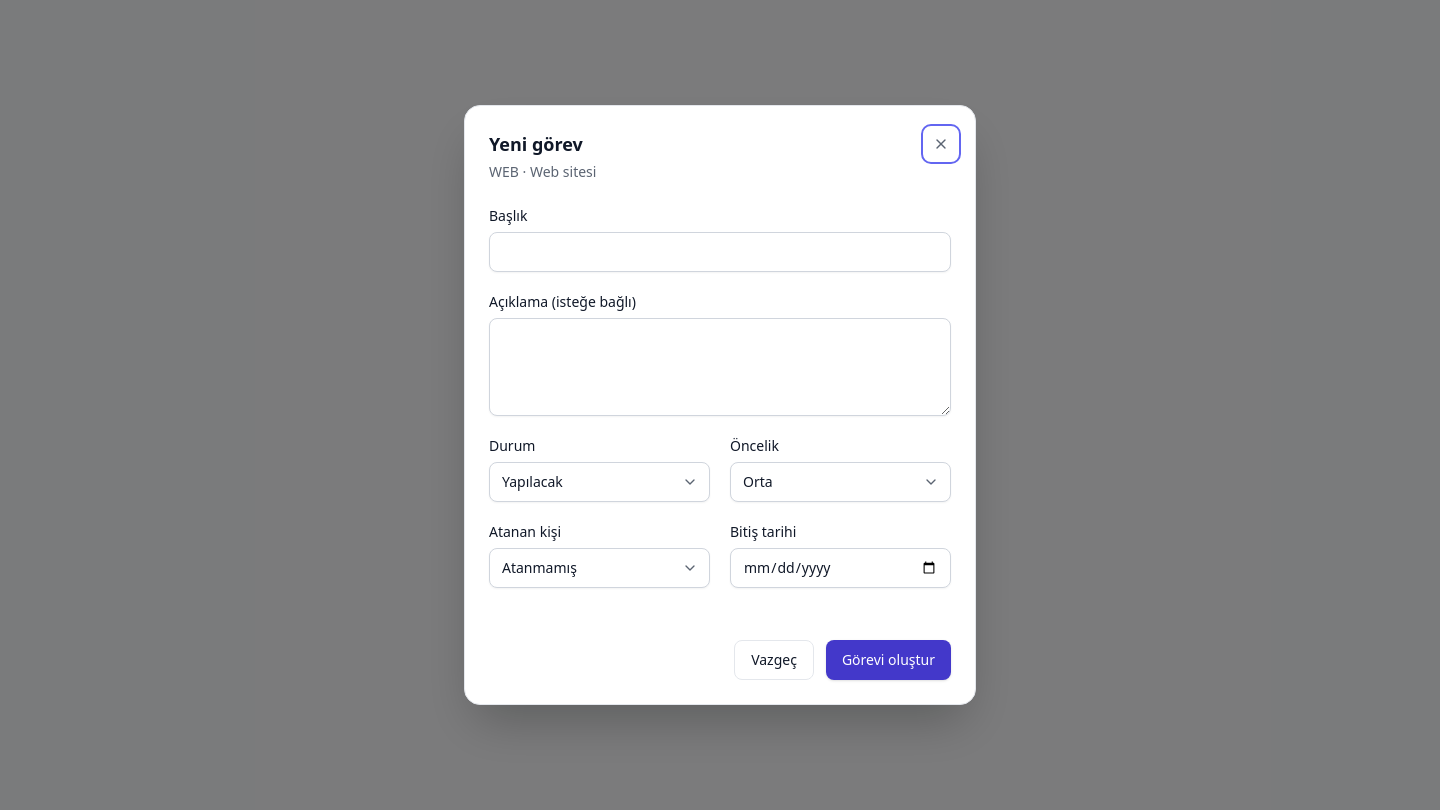
Test: CreateTaskDialog › requires a title
The width and height of the screenshot is (1440, 810).
Click the button "Görevi oluştur": (888, 660) [826,640,951,680]
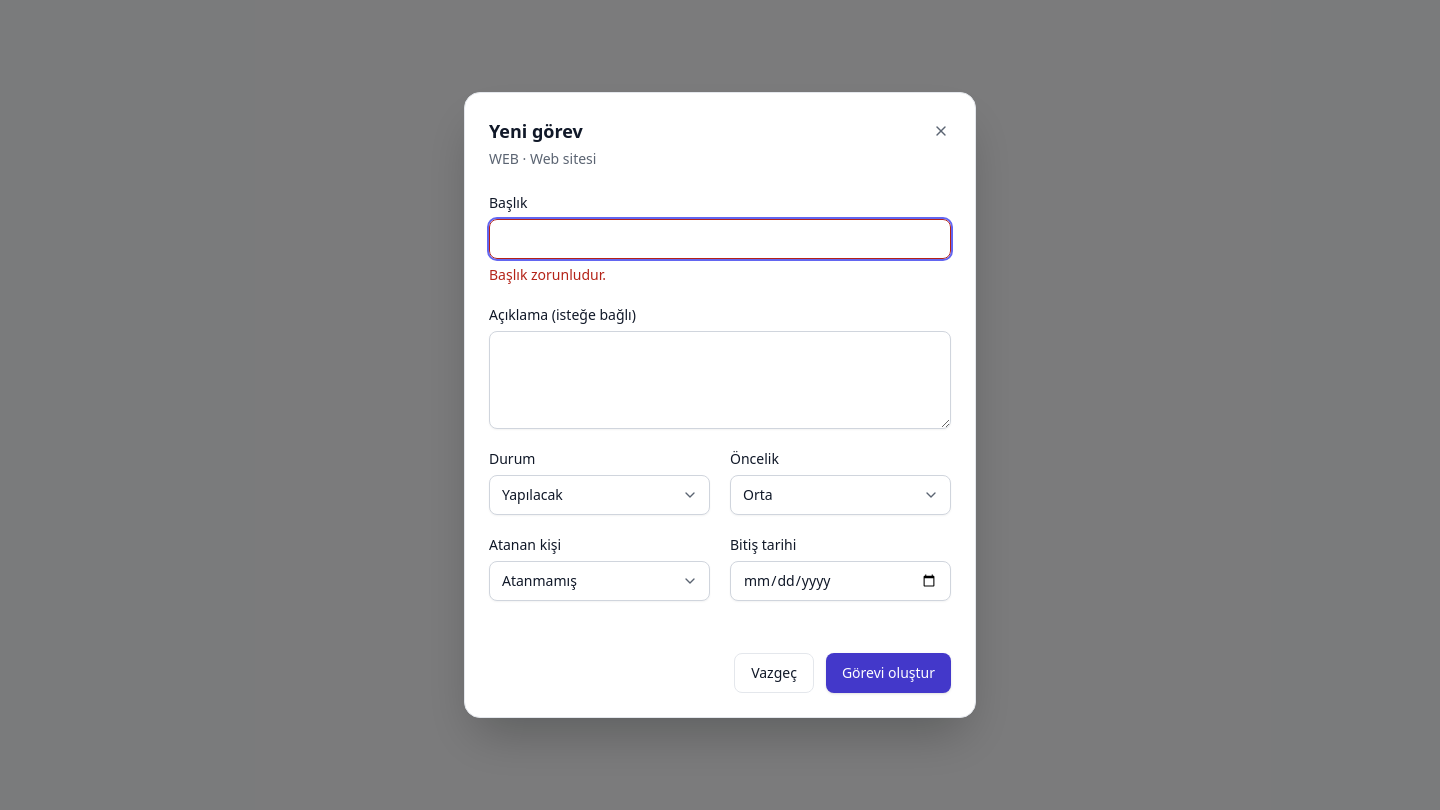
Now the text "Başlık zorunludur." is shown, box [489,265,606,284]
